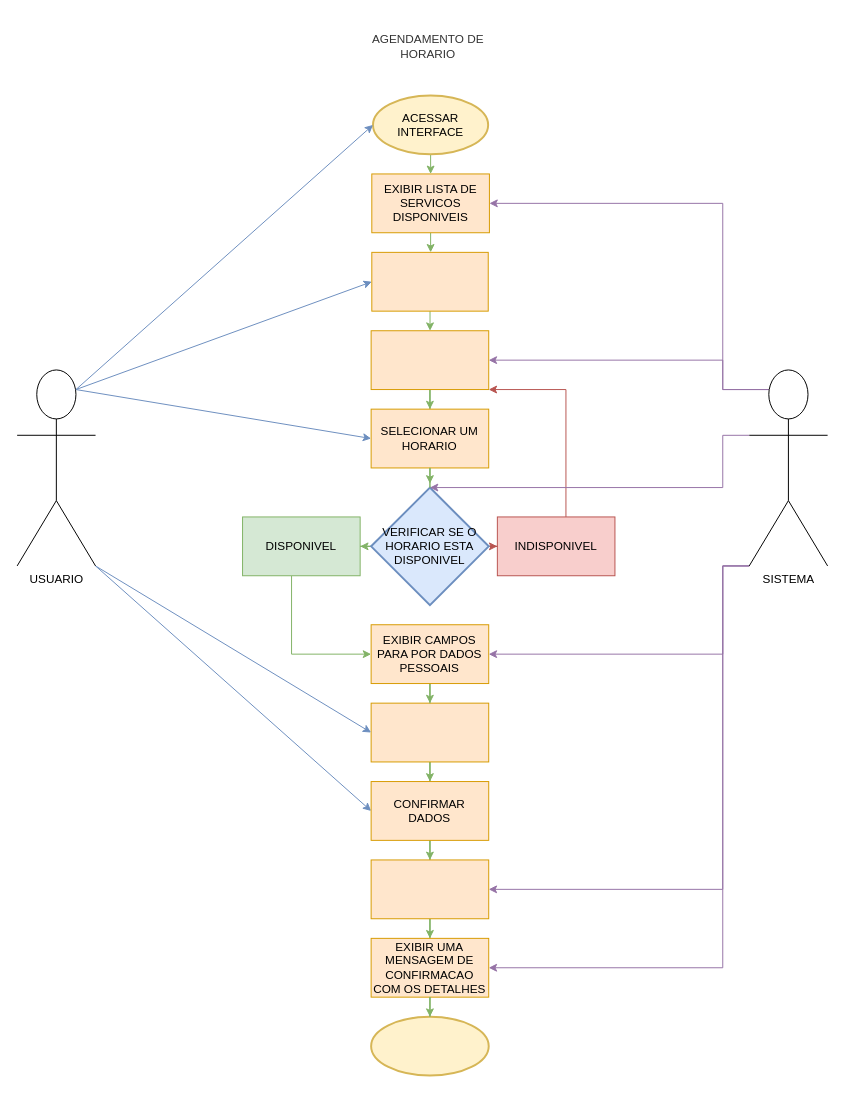
This 845x1094 diagram has some shape labels left out. The centre of each missing label's shape, as x and y in pixels:
"EXIBIR LISTA DE HORARIOS DISPONIVEIS" goes at (x=429, y=360).
"FIM" goes at (x=429, y=1045).
"INSERIR DADOS PESSOAIS" goes at (x=429, y=732).
"SALVAR NO BANCO DE DADOS" goes at (x=429, y=889).
"SELECIONAR UM SERVICO" goes at (x=429, y=281).
